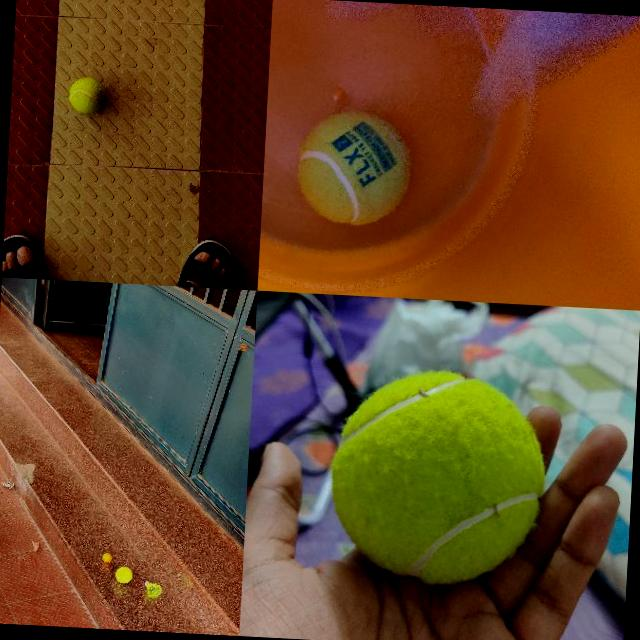tennis-ball: (324, 362, 550, 591), (295, 109, 413, 228), (68, 76, 105, 114), (115, 566, 133, 582)
